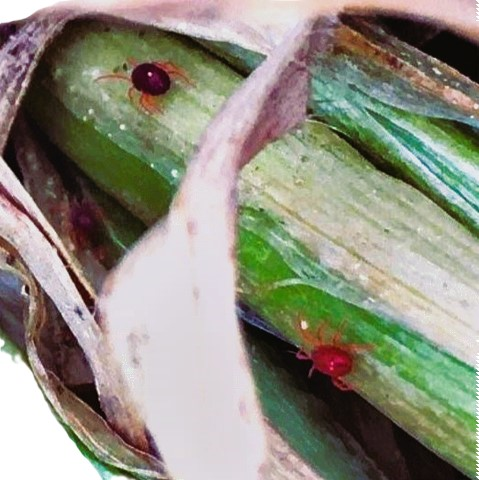Wheat Red Spider: (282, 309, 376, 398)
